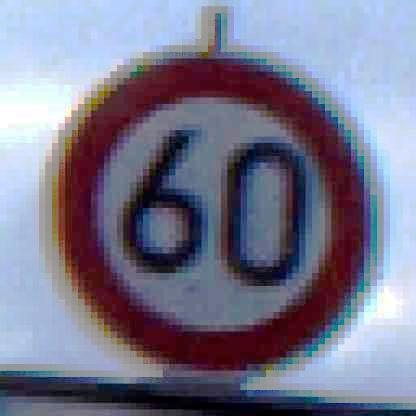Speed Limit -60-: (39, 46, 383, 382)
